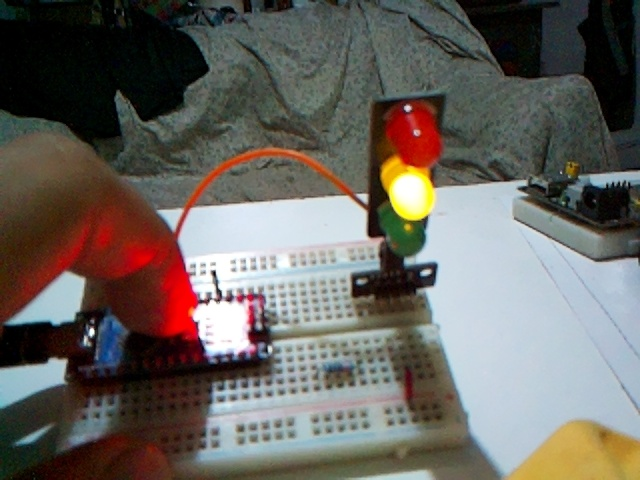traffic_light_yellow: (368, 94, 445, 256)
